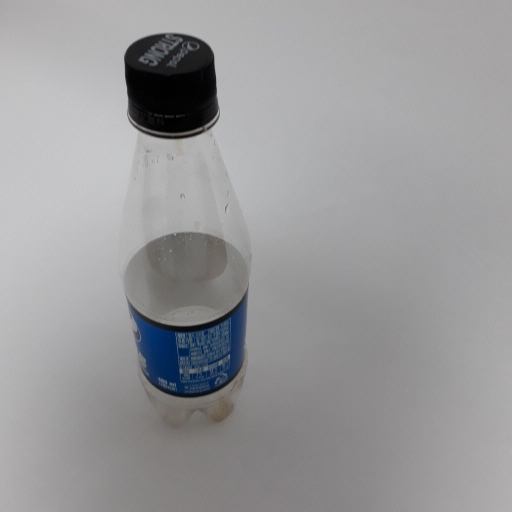Plastic_0: (113, 29, 256, 440)
